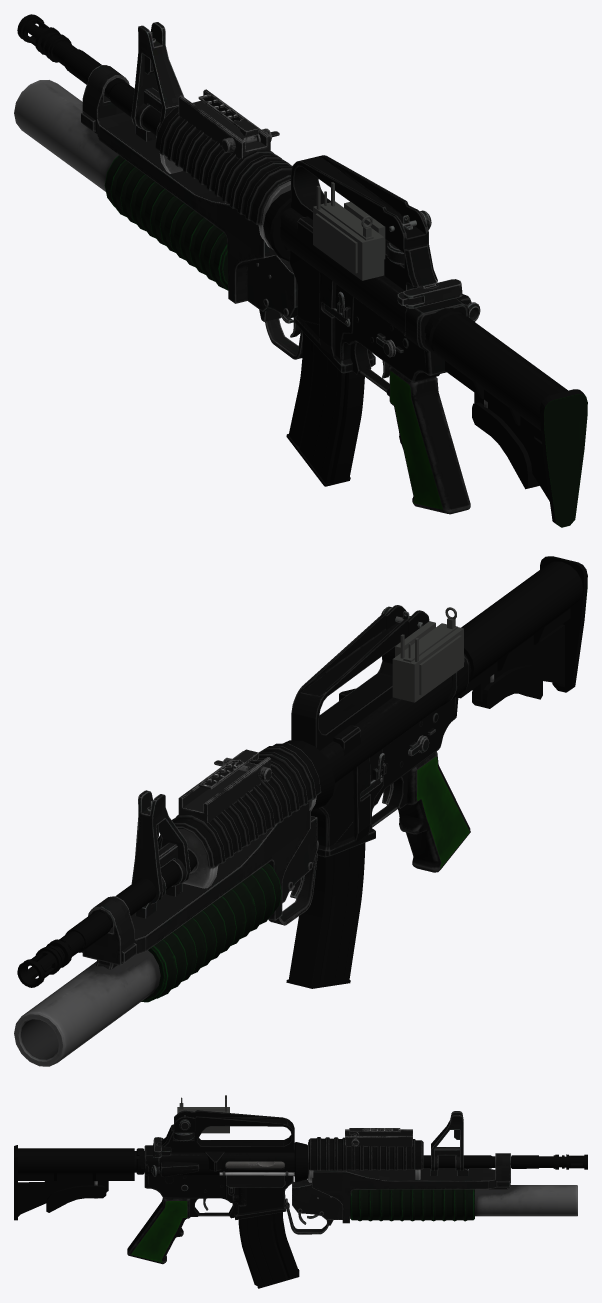
3 views of the same model, one above another, from view 1: azimuth 30°, elevation 25°; view 2: azimuth 150°, elevation 25°; view 3: azimuth 270°, elevation 25° (orthographic). The views are drawn at different scales.
Visible parts, largest first — view 1: m4a1_m203_body, mag, charge, quad_sight; view 2: m4a1_m203_body, mag, quad_sight; view 3: m4a1_m203_body, mag, charge.
Part boxes in pixels (x1,y1,x2,y2): m4a1_m203_body: (14, 14, 587, 527); mag: (286, 332, 364, 486); charge: (397, 279, 462, 313); quad_sight: (316, 182, 373, 240); m4a1_m203_body: (14, 556, 587, 1066); mag: (286, 775, 365, 988); quad_sight: (400, 607, 457, 662); m4a1_m203_body: (14, 1107, 587, 1264); mag: (238, 1212, 299, 1288); charge: (145, 1137, 284, 1168).
Size of the model in its own units: 0.0903 by 0.2862 by 0.84.
Materials: 9 (8 with a texture image).
